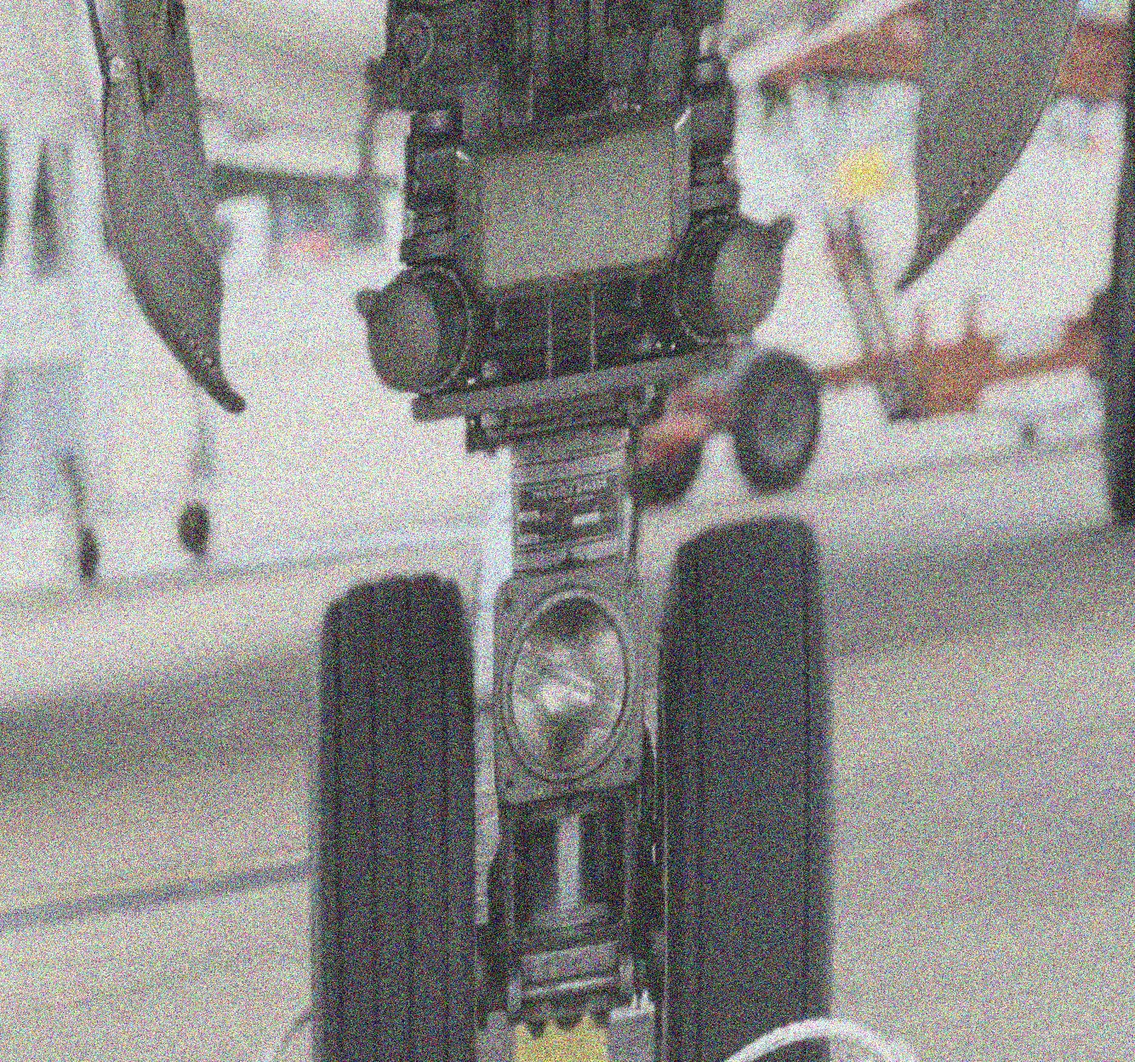wheel: (654, 499, 837, 1062), (309, 561, 482, 1062), (1098, 176, 1135, 517), (737, 345, 822, 492), (639, 430, 702, 507)
